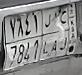1: (33, 11, 43, 63)
4: (25, 13, 33, 64)
7: (7, 18, 18, 70)
8: (16, 18, 24, 68)
J: (59, 9, 70, 53)
L: (41, 12, 52, 55)
